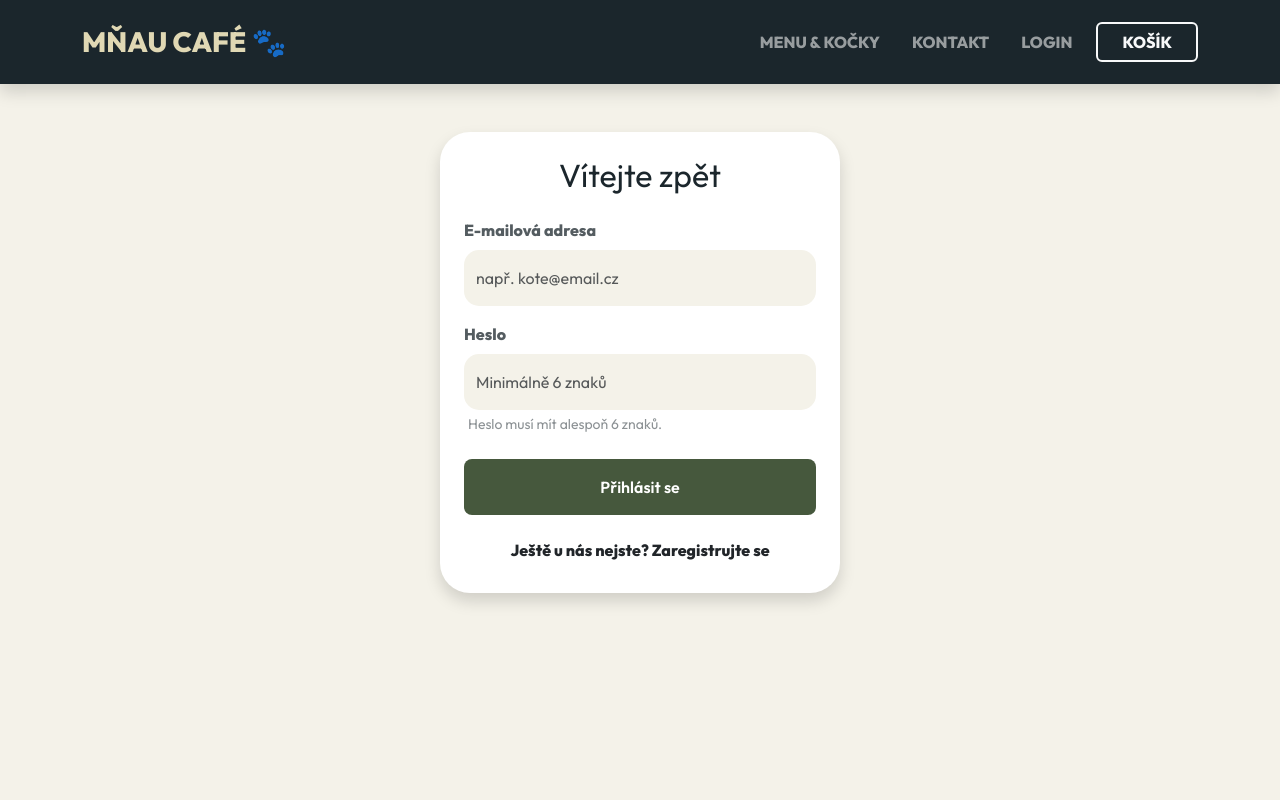
Scenario: Login – validace › zobrazí chybu pro neplatný e-mail
Step 1. Type "nenimail" into the field labelled "E-mailová adresa" → (640, 278), box [464,250,816,306]
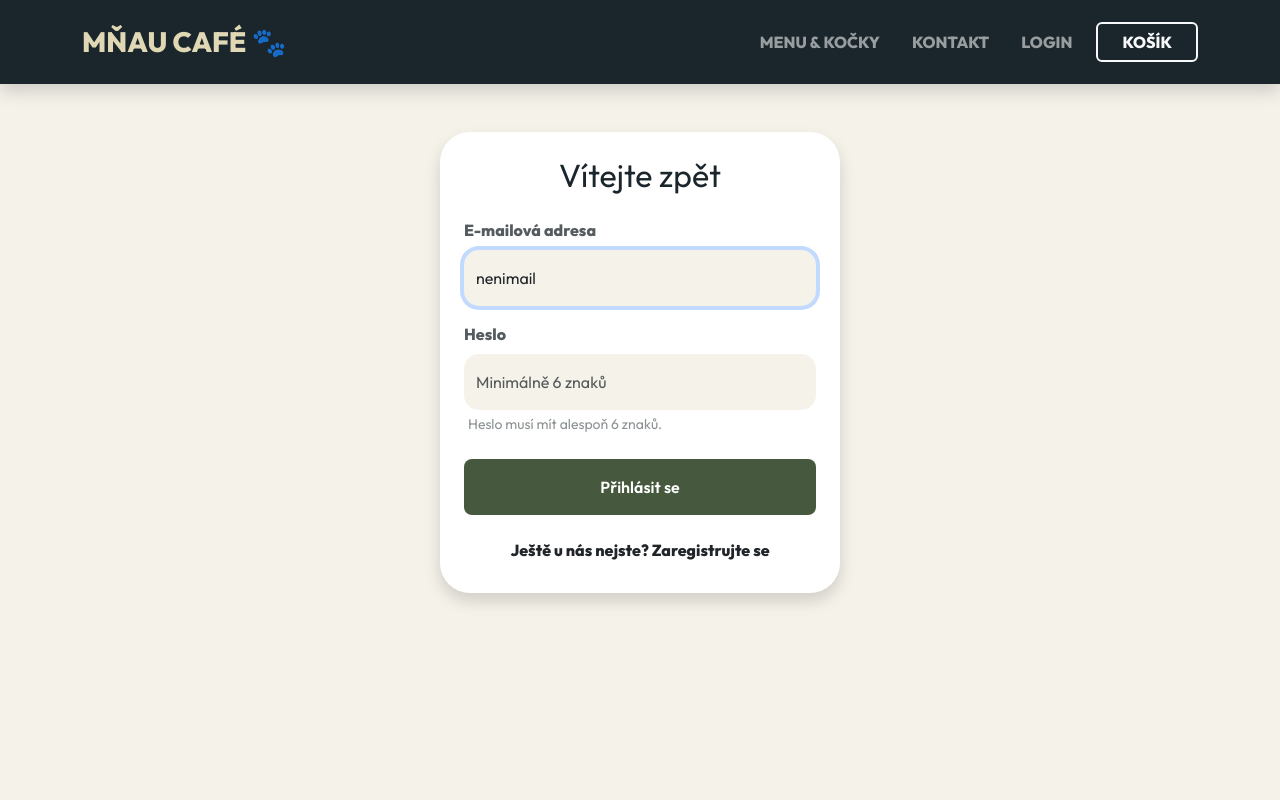
Step 2. Type "heslo123" into the password field labelled "Heslo" → (640, 382), box [464,354,816,410]
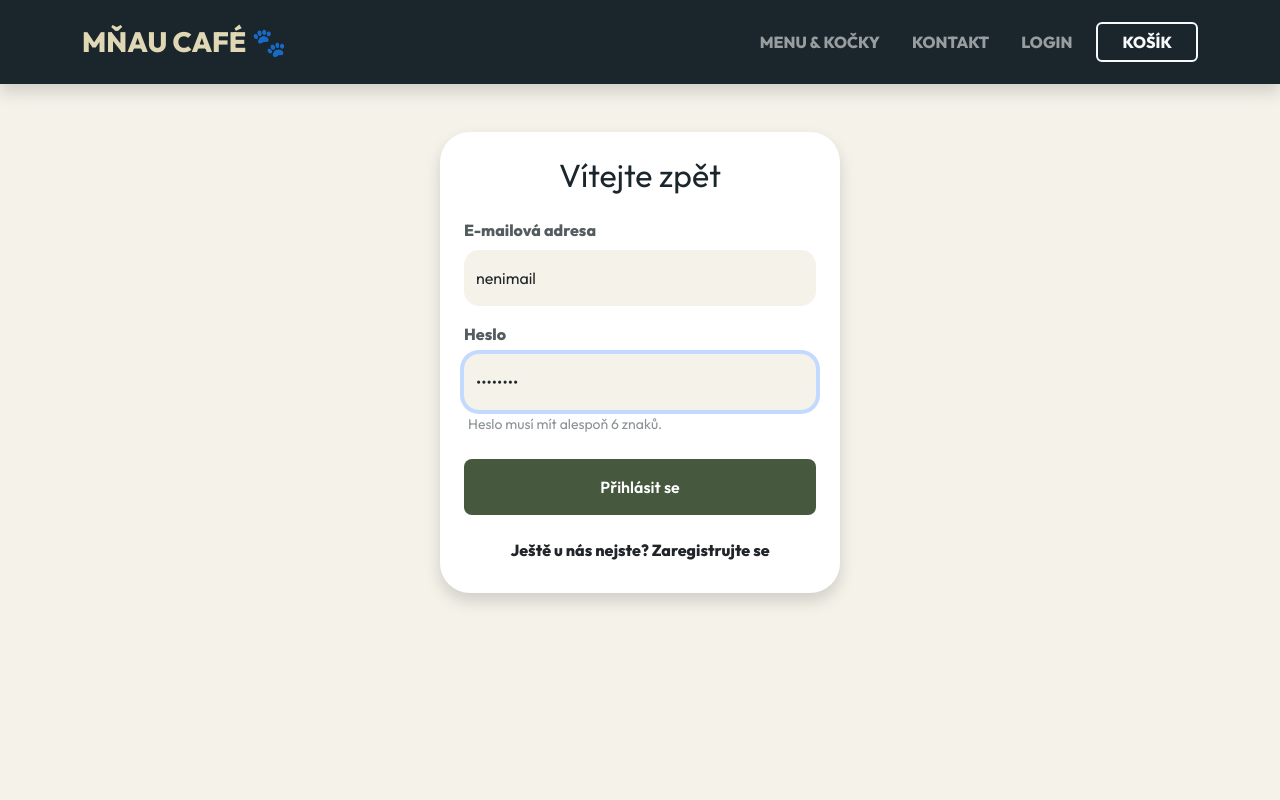
Step 3. Click the button "Přihlásit se" → (640, 487), box [464,459,816,515]
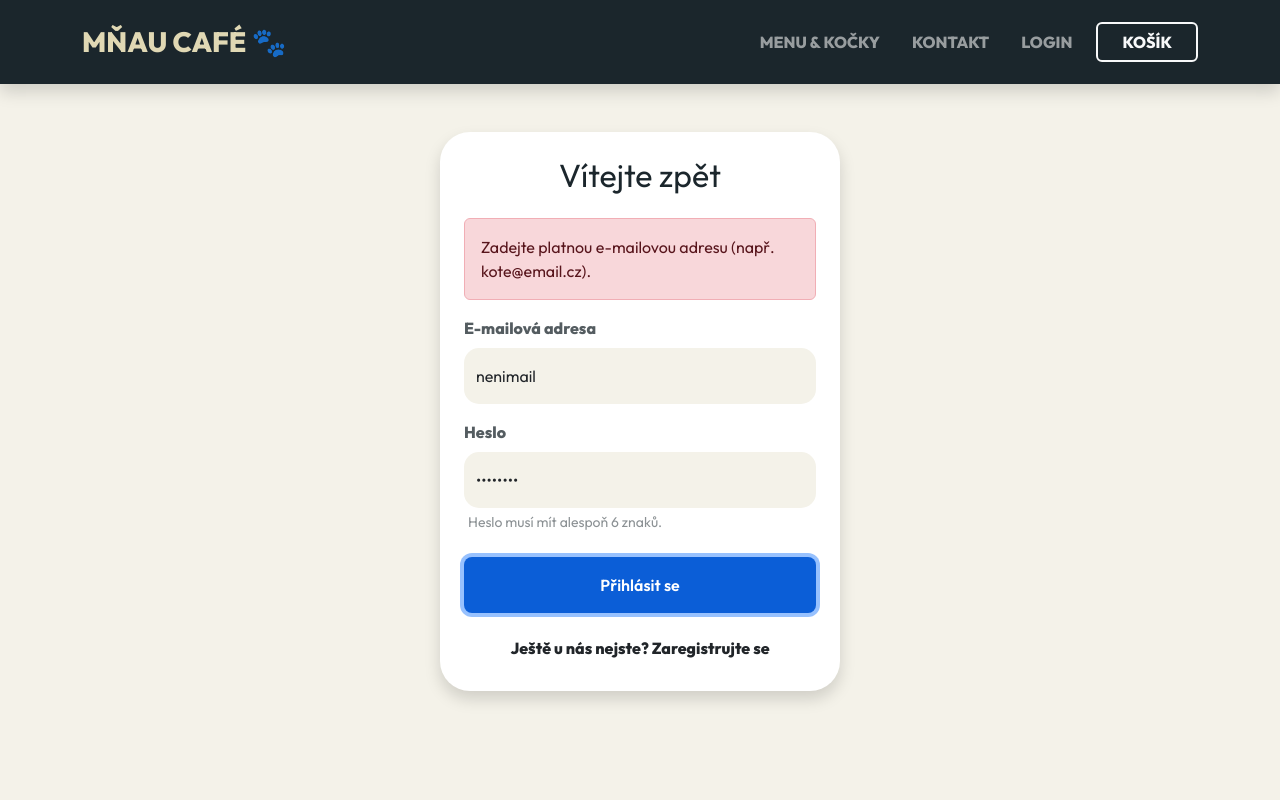
Check: the text "Zadejte platnou e-mailovou adresu (např. kote@email.cz)." is shown, box [464,218,816,300]
